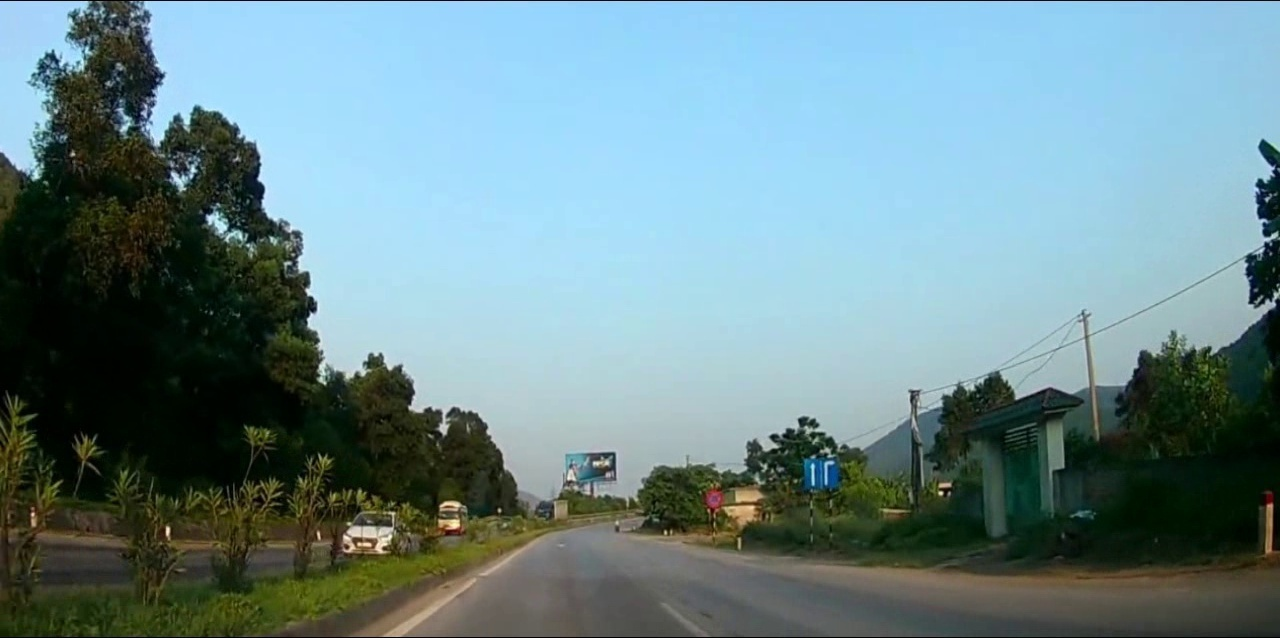Bien khac: (804, 457, 840, 491), (705, 488, 723, 511)
